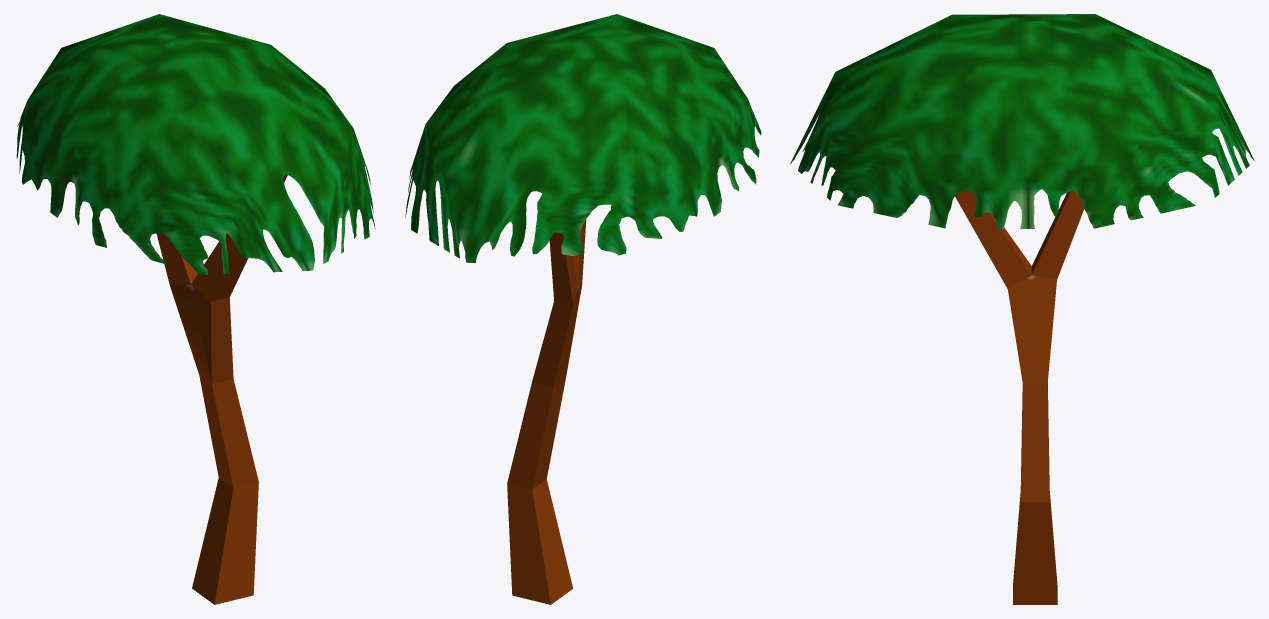
The model's file is SM_Tree_E06.fbx.
3 renders of one model, left to right at view 1: azimuth 30°, elevation 25°; view 2: azimuth 150°, elevation 25°; view 3: azimuth 270°, elevation 25°, orthographic.
Parts seen in each view (by area): view 1: SM_Tree_E06; view 2: SM_Tree_E06; view 3: SM_Tree_E06.
Boxes of the visible parts, left/top/right/bottom form: SM_Tree_E06: left=16, top=14, right=375, bottom=604; SM_Tree_E06: left=405, top=14, right=761, bottom=604; SM_Tree_E06: left=790, top=14, right=1254, bottom=604.
Bounding box in the file's own units: 161 × 312 × 236.
